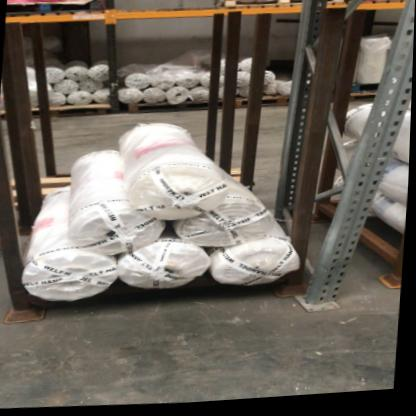vertical_damage: (301, 266, 379, 324)
